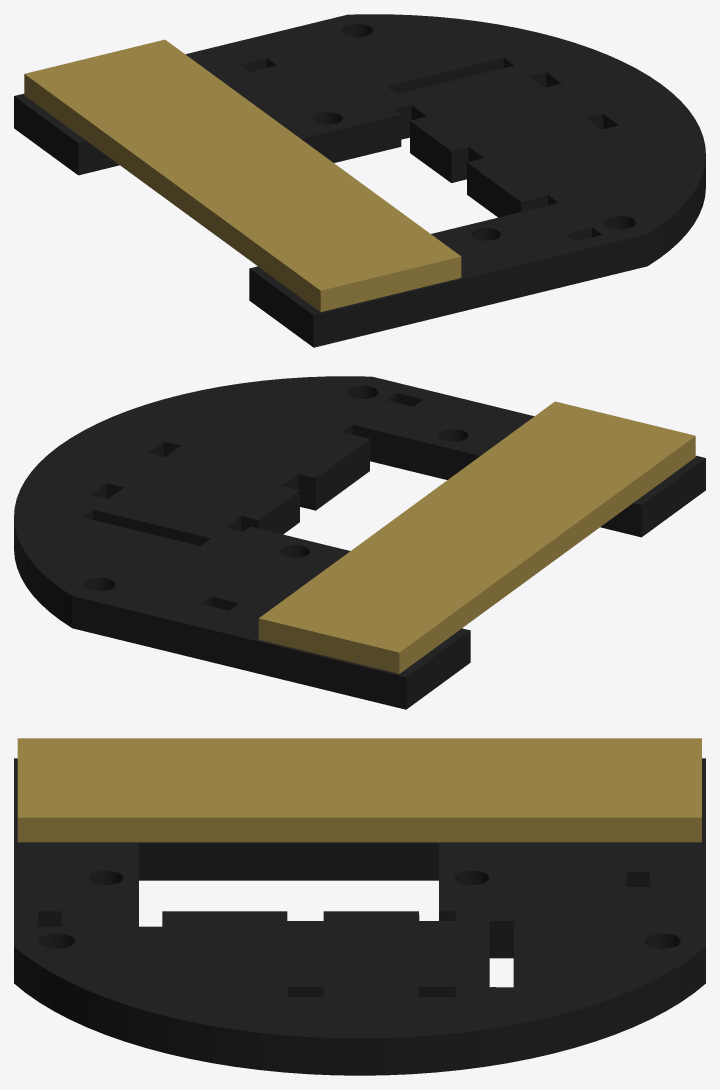
File: pan_base_link.dae
3 renders of one model, top to bottom at view 1: azimuth 30°, elevation 25°; view 2: azimuth 150°, elevation 25°; view 3: azimuth 270°, elevation 25°, orthographic. The views are drawn at different scales.
Parts seen in each view (by area): view 1: Pan_Body; view 2: Pan_Body; view 3: Pan_Body.
Boxes of the visible parts, x1=… form: Pan_Body: x1=14, y1=14, x2=705, y2=347; Pan_Body: x1=14, y1=376, x2=705, y2=709; Pan_Body: x1=14, y1=738, x2=705, y2=1075.
Bounding box in the file's own units: 0.0507 × 0.0529 × 0.00523.
